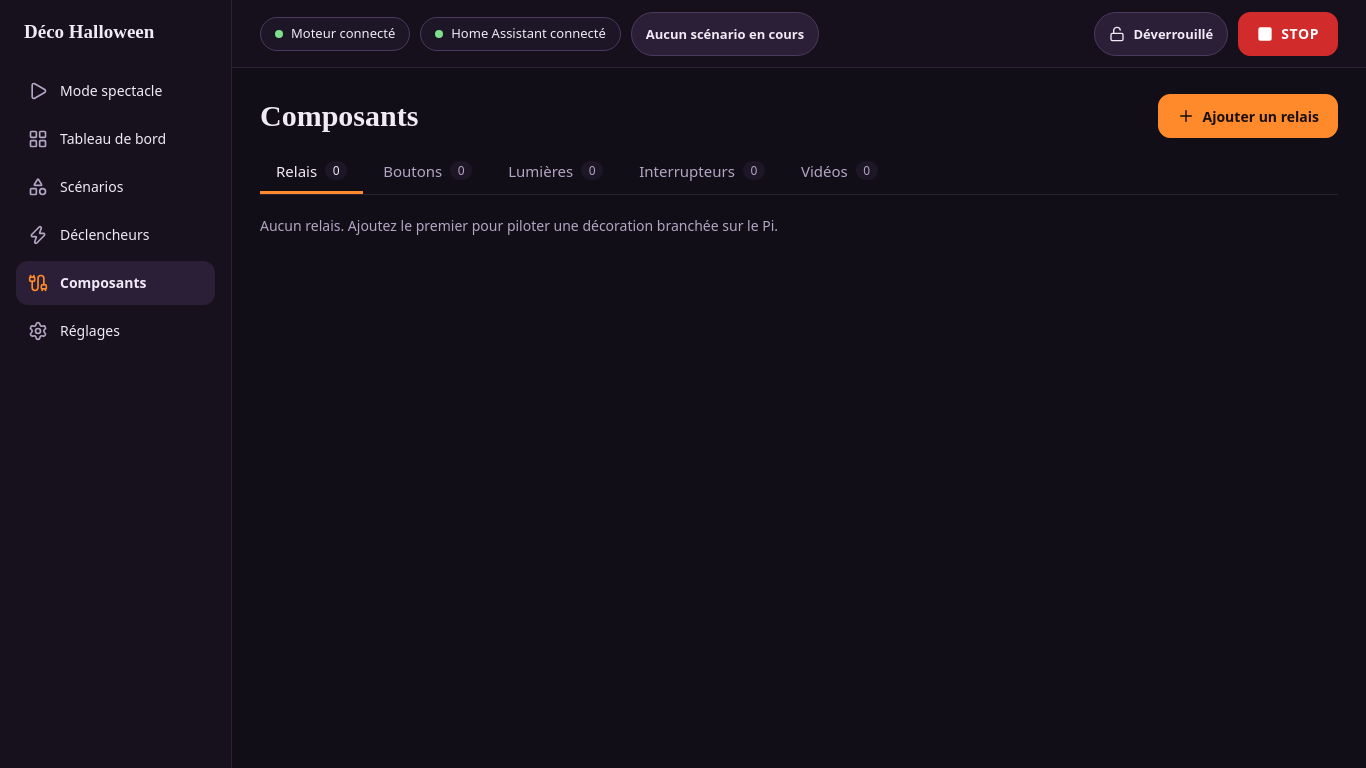
it: sans code défini, le moteur refuse (409) et le cadenas dit où en définir un
Expected: the text "Moteur connecté" is shown, [260,16,410,50]
Step 1. Click the button "Déverrouillé" → x=1161, y=34, box [1094,12,1228,56]
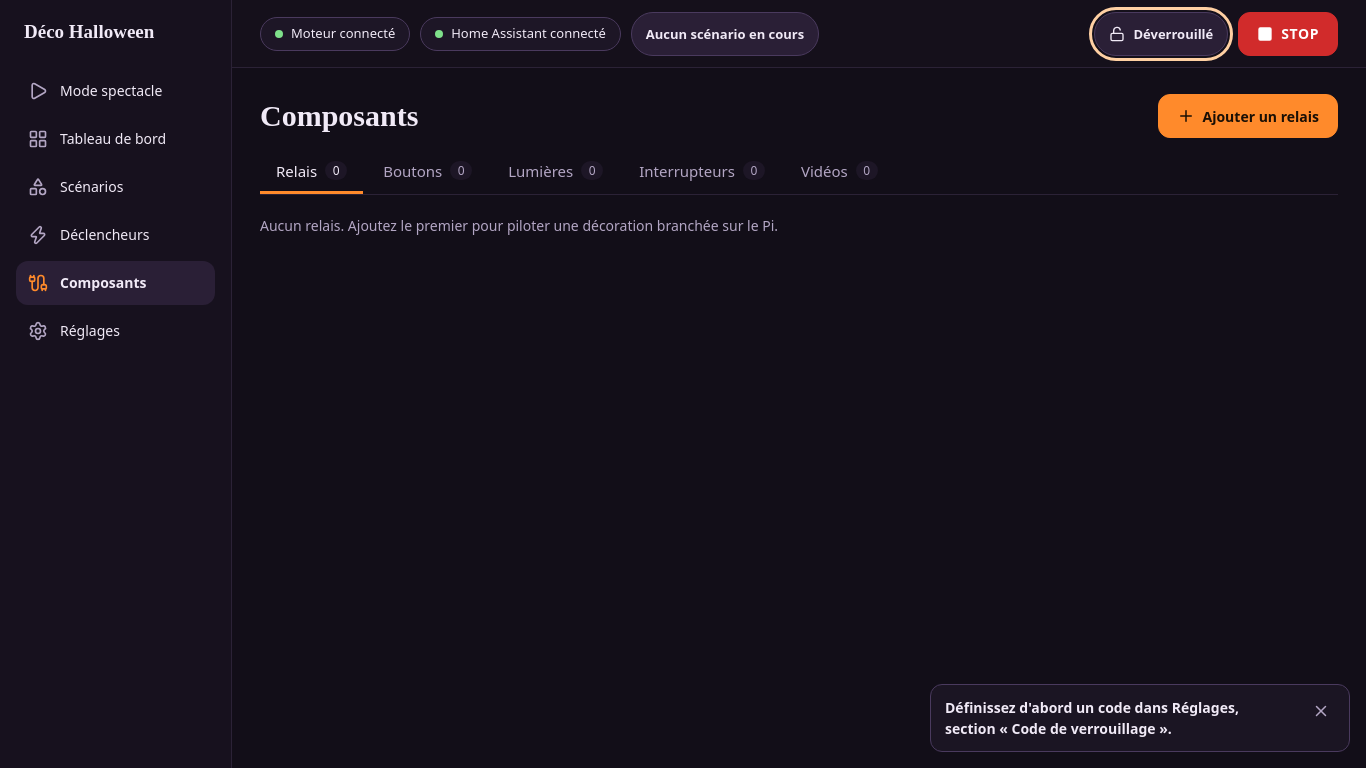
Result: the text "Définissez d'abord un code dans Réglages" is shown at [945,698,1239,738]
